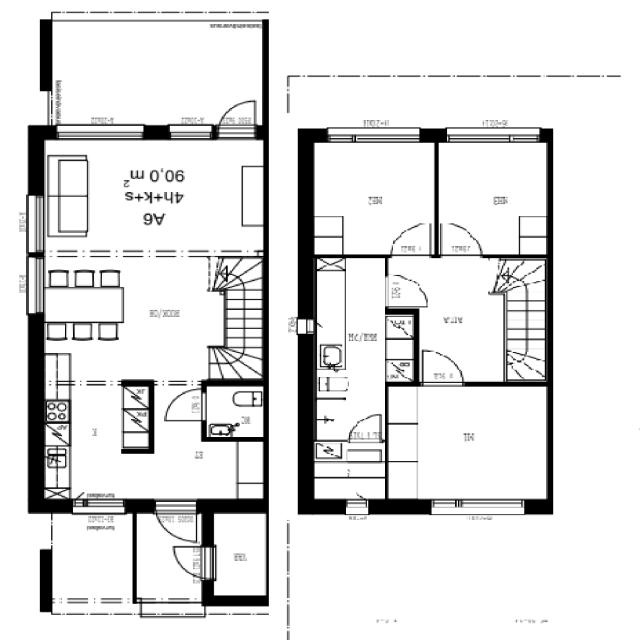door: (154, 499, 199, 547), (417, 346, 467, 386), (382, 271, 430, 310), (436, 218, 485, 256), (163, 386, 210, 424), (216, 96, 258, 136), (388, 220, 434, 256), (170, 544, 210, 579), (347, 410, 384, 442)
window: (424, 494, 532, 521), (48, 120, 148, 146), (320, 125, 424, 146), (440, 124, 544, 145), (20, 252, 48, 321), (22, 190, 49, 260), (68, 494, 132, 514), (134, 603, 207, 620), (38, 86, 64, 130), (163, 121, 217, 141), (37, 511, 57, 557), (202, 546, 218, 582), (343, 497, 370, 518), (296, 316, 319, 335)
zone: (37, 256, 255, 387), (40, 137, 264, 256), (388, 384, 551, 502), (308, 139, 436, 256), (435, 138, 550, 256), (40, 384, 155, 502), (312, 261, 406, 398), (411, 258, 511, 383), (308, 439, 389, 504), (210, 510, 268, 600), (203, 384, 265, 439)
